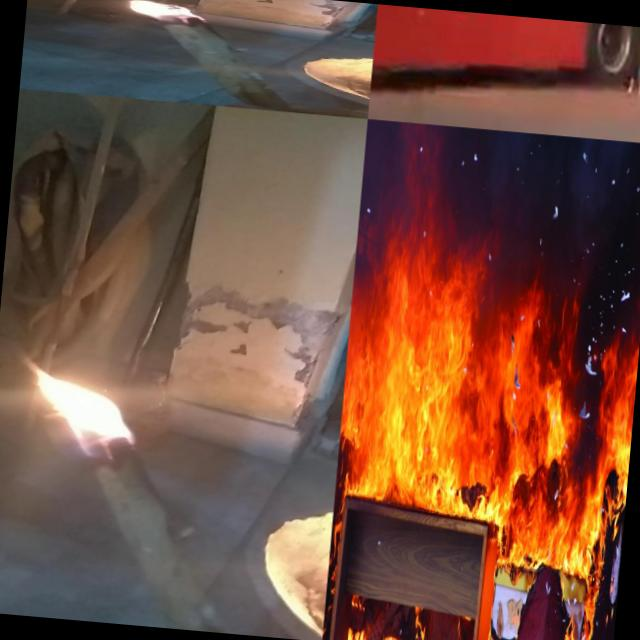fire: (322, 219, 640, 640), (11, 327, 172, 488), (109, 0, 222, 34)
